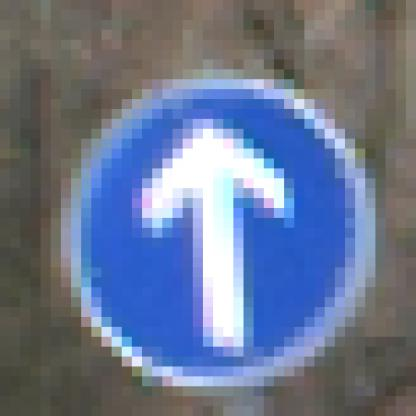AheadOnly: (62, 61, 356, 368)
